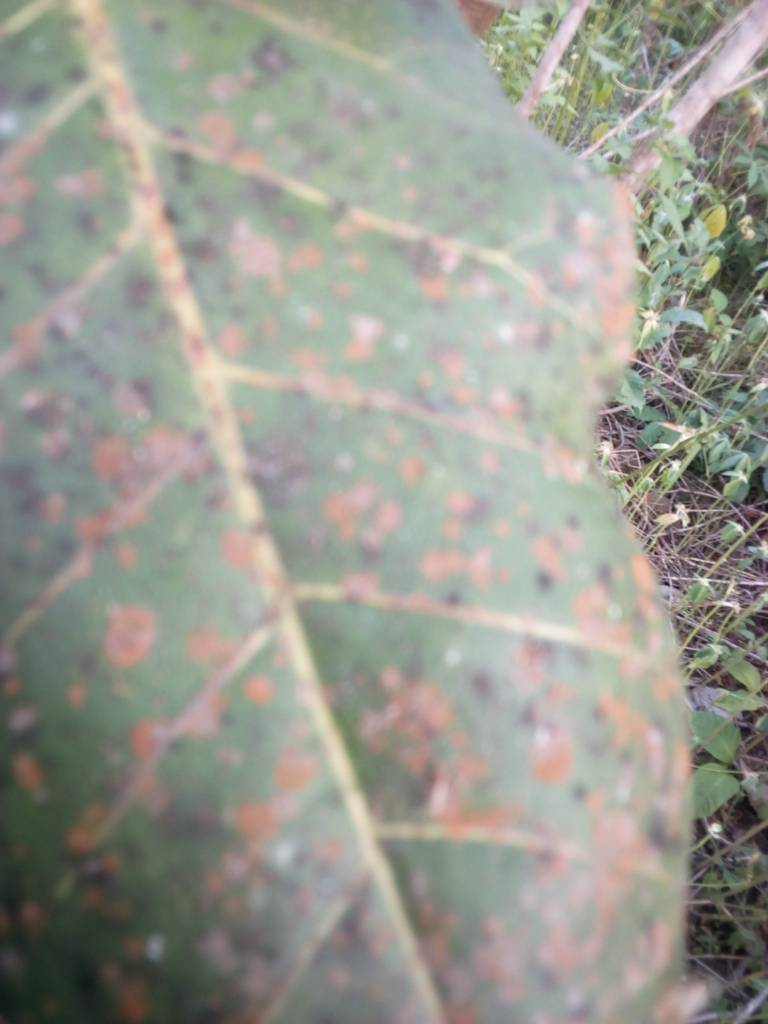Rouille: (1, 1, 689, 1007)
